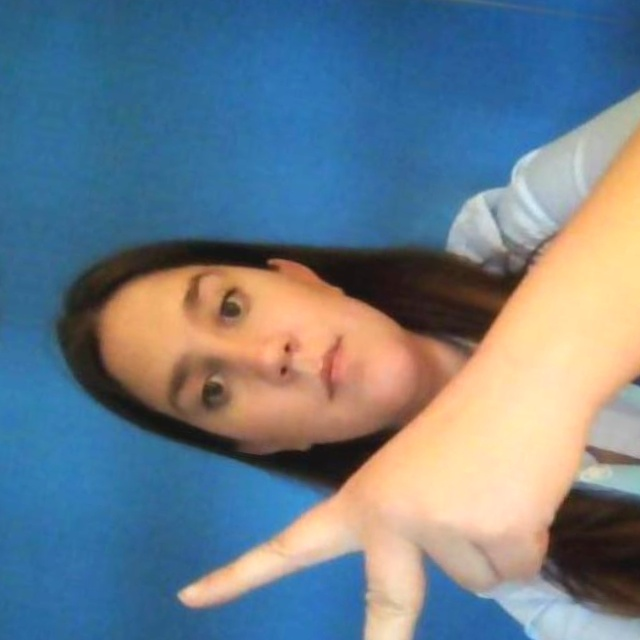Scissors: (161, 323, 599, 640)
